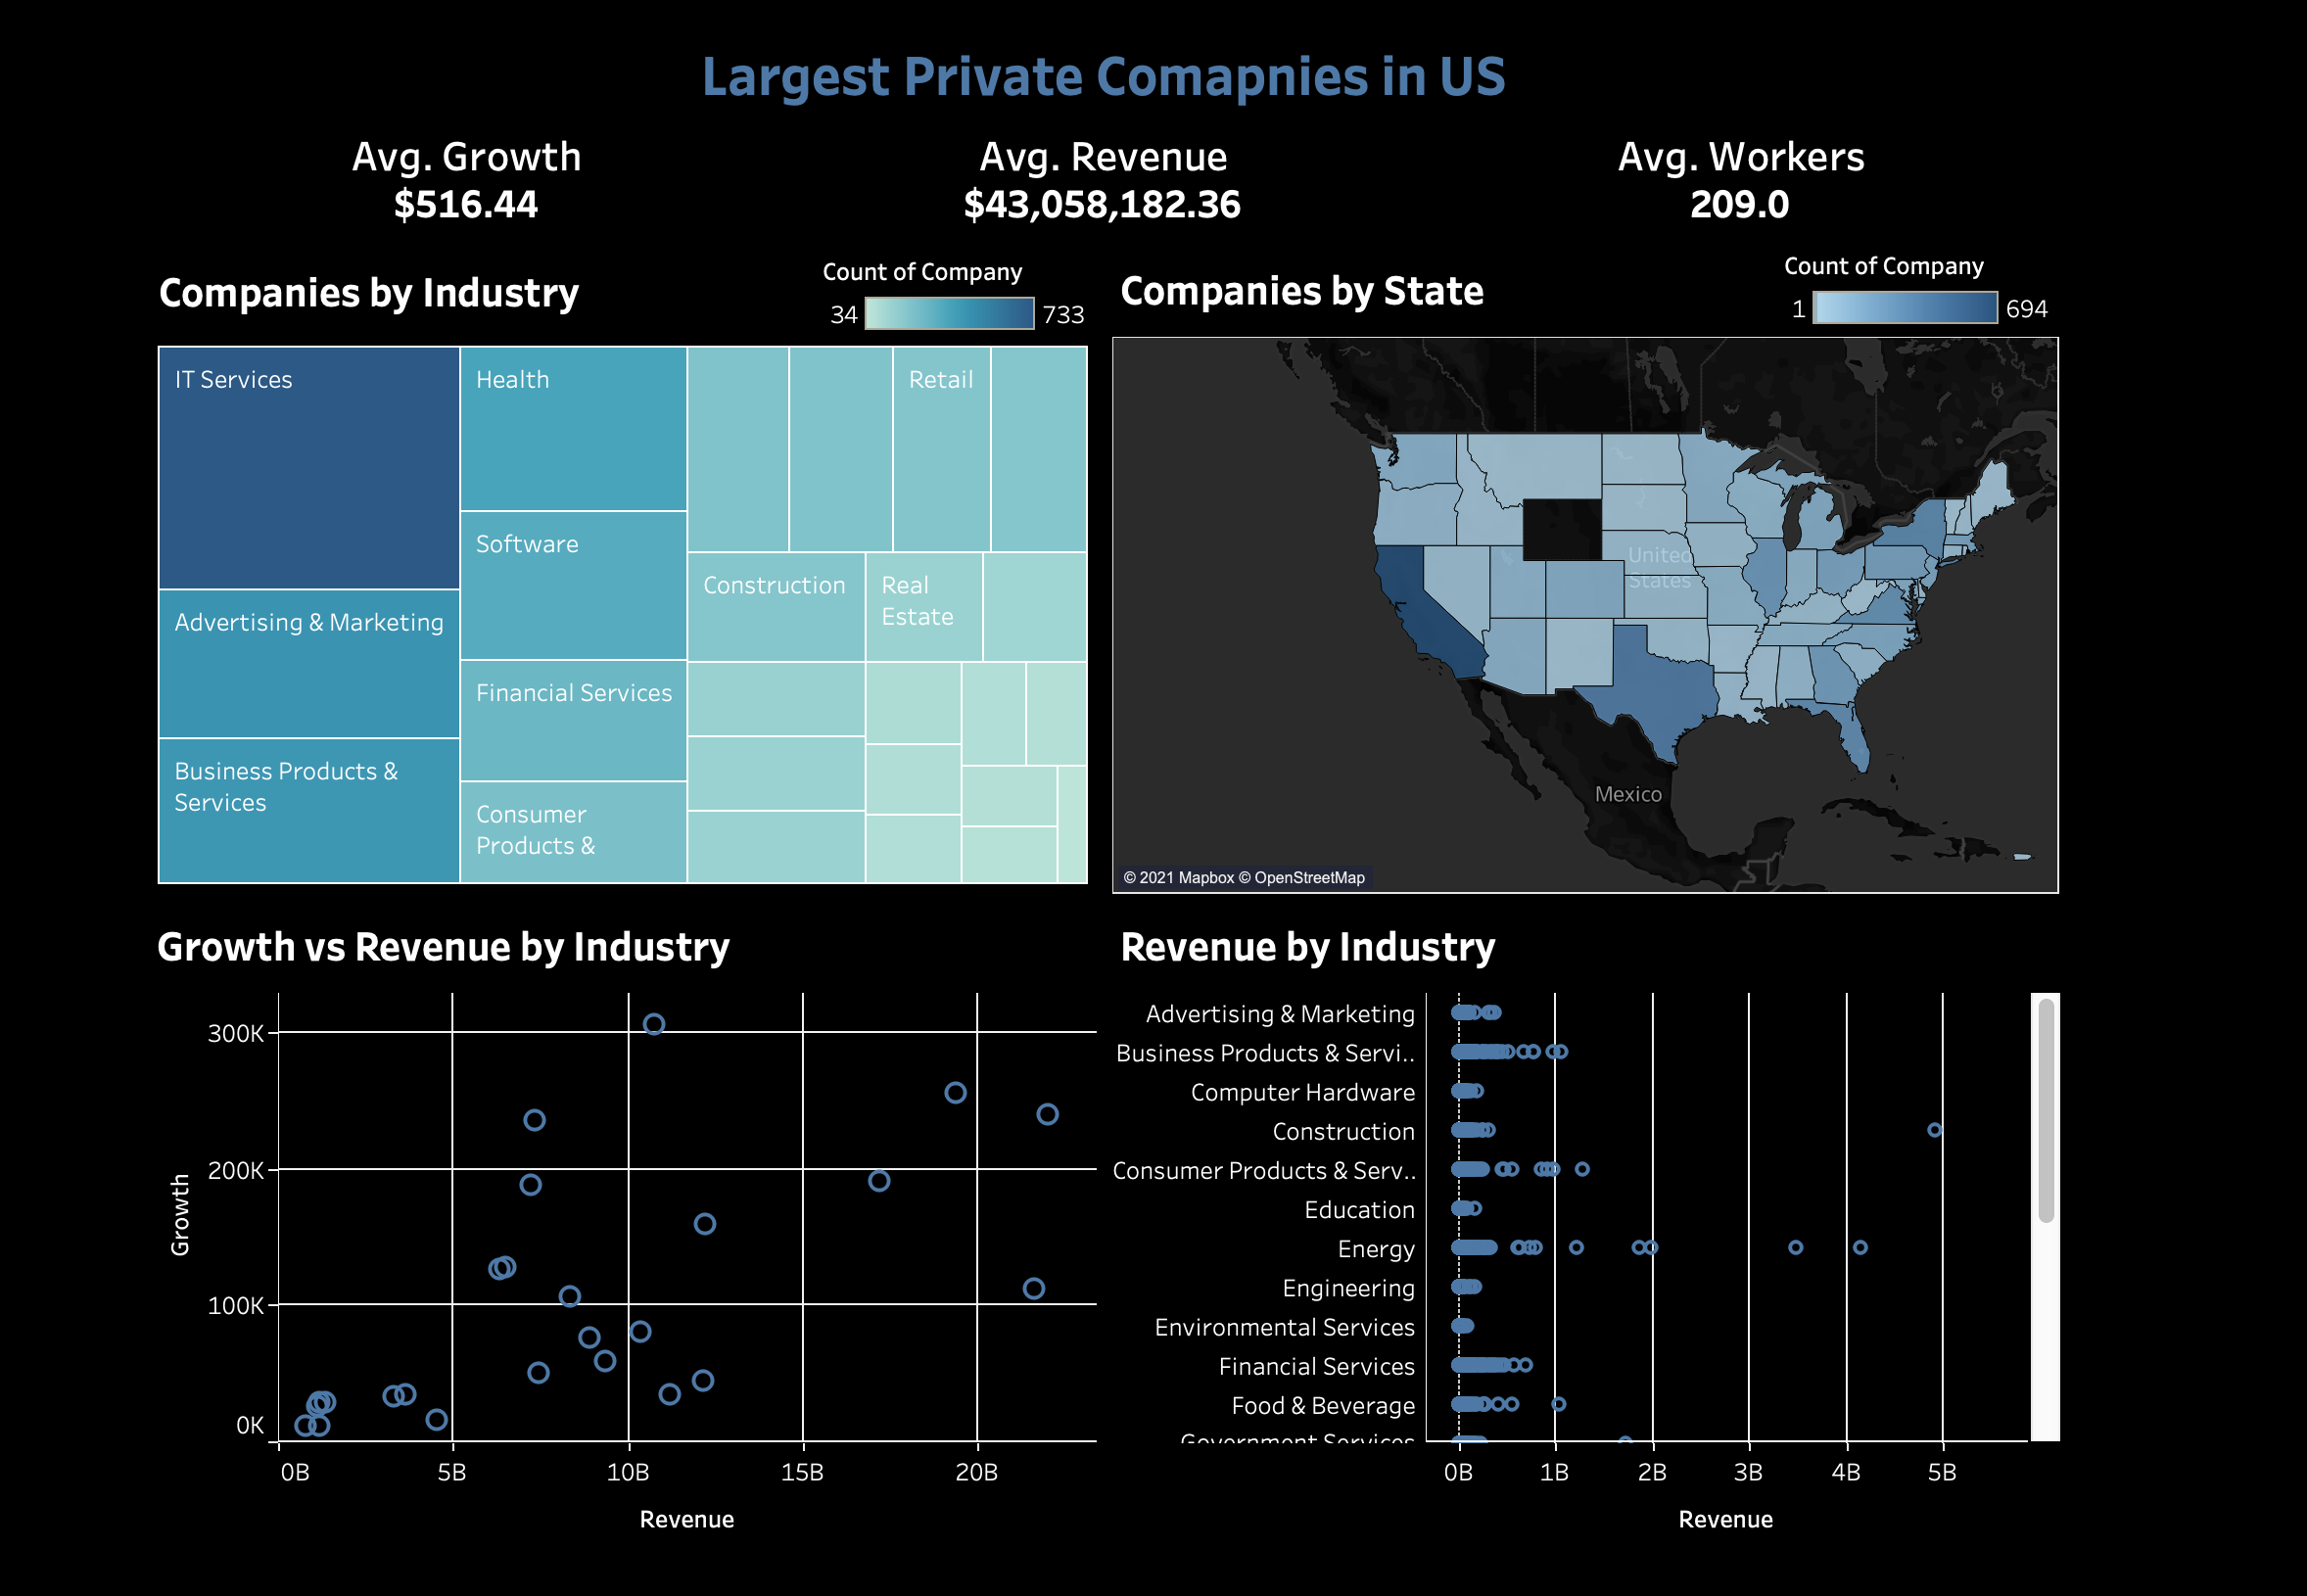

This screenshot's page, from the dashboard's own definition file:
{"tool":"tableau","page":{"name":"Dashboard 1","canvas":[1000,800],"ordinal":0},"visuals":[{"type":"worksheet","title":"Sheet 2","mark":"Automatic","box":[8,8,984,115]},{"type":"worksheet","title":"Sheet 3","mark":"Automatic","box":[8,123,492,334.5]},{"type":"worksheet","title":"Sheet 1","mark":"Automatic","box":[500,123,492,334.5]},{"type":"legend","title":"Sheet 1","param":"[federated.0zvvyy61xezi871aqdhru0h207z6].[cnt:company:qk]","box":[847,124,140,76]},{"type":"legend","title":"Sheet 3","param":"[federated.0zvvyy61xezi871aqdhru0h207z6].[cnt:company:qk]","box":[356,127,139,42]},{"type":"worksheet","title":"Sheet 5","mark":"Automatic","rows":["growth"],"cols":["revenue"],"box":[8,457.5,492,334.5]},{"type":"worksheet","title":"Sheet 4","mark":"Shape","rows":["industry"],"cols":["revenue"],"box":[500,457.5,492,334.5]}]}

Visuals, with their boxes on the page's 1000x800 design canvas (x1, y1, x2, y2). These are canvas units, not pixel positions in the 2307x1596 screenshot, which may show the page scaled, cropped or inside an application window:
"Sheet 2" worksheet: box=[8, 8, 992, 123]
"Sheet 3" worksheet: box=[8, 123, 500, 458]
"Sheet 1" worksheet: box=[500, 123, 992, 458]
"Sheet 1" legend: box=[847, 124, 987, 200]
"Sheet 3" legend: box=[356, 127, 495, 169]
"Sheet 5" worksheet: box=[8, 458, 500, 792]
"Sheet 4" worksheet (Shape marks): box=[500, 458, 992, 792]
